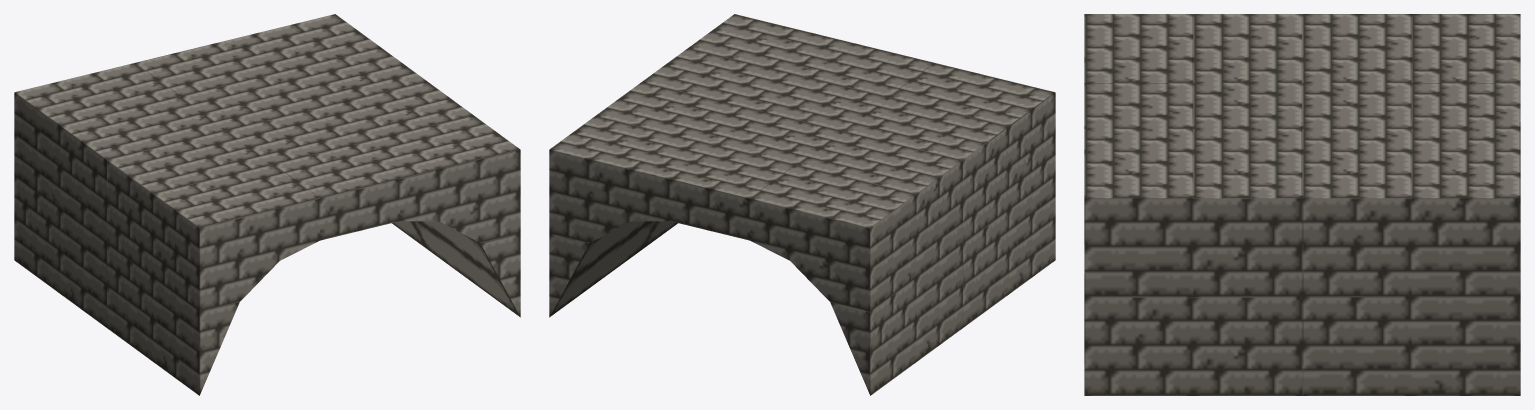
File: Ceiling_Arch_Wide_x2.glb
3 renders of one model, left to right at view 1: azimuth 30°, elevation 25°; view 2: azimuth 150°, elevation 25°; view 3: azimuth 270°, elevation 25°, orthographic. The views are drawn at different scales.
Visible parts, largest first — view 1: Ceiling_Arch_Wide_x2; view 2: Ceiling_Arch_Wide_x2; view 3: Ceiling_Arch_Wide_x2.
Part boxes in pixels (<box>): Ceiling_Arch_Wide_x2: <box>14,14,520,395</box>; Ceiling_Arch_Wide_x2: <box>549,14,1055,395</box>; Ceiling_Arch_Wide_x2: <box>1084,14,1520,395</box>.
Size of the model in its own units: 8 by 4 by 8.
Materials: 1 (1 with a texture image).
